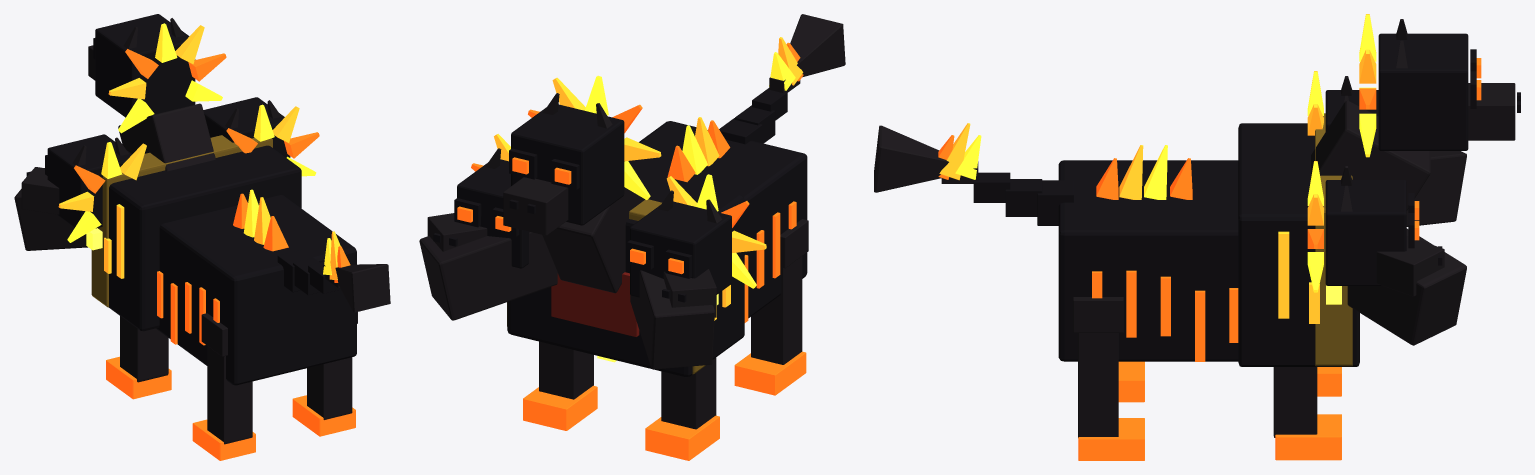
The model's file is cerberus.glb.
The picture shows the model from 3 angles, left to right: view 1: azimuth 30°, elevation 25°; view 2: azimuth 150°, elevation 25°; view 3: azimuth 270°, elevation 25°; orthographic projection. The views are drawn at different scales.
Visible parts, largest first — view 1: body, head, ear.R, leg.BR, tail, ear.L, leg.FR, leg.BL; view 2: body, head, ear.R, leg.BR, tail, ear.L, leg.FR, leg.FL; view 3: body, head, ear.L, tail, leg.BL, leg.FL, ear.R, leg.BR, leg.FR.
Part boxes in pixels (x1=…): body: x1=14, y1=103, x2=356, y2=385; head: x1=88, y1=14, x2=226, y2=133; ear.R: x1=21, y1=134, x2=146, y2=242; leg.BR: x1=192, y1=313, x2=255, y2=460; tail: x1=277, y1=231, x2=390, y2=312; ear.L: x1=203, y1=97, x2=319, y2=176; leg.FR: x1=106, y1=316, x2=171, y2=399; leg.BL: x1=292, y1=312, x2=357, y2=436; body: x1=419, y1=117, x2=807, y2=377; head: x1=503, y1=75, x2=661, y2=235; ear.R: x1=627, y1=174, x2=766, y2=317; leg.BR: x1=734, y1=219, x2=808, y2=395; tail: x1=719, y1=14, x2=845, y2=144; ear.L: x1=427, y1=134, x2=529, y2=268; leg.FR: x1=645, y1=357, x2=719, y2=460; leg.FL: x1=523, y1=341, x2=597, y2=430; body: x1=1058, y1=101, x2=1466, y2=366; head: x1=1359, y1=14, x2=1520, y2=157; ear.L: x1=1307, y1=161, x2=1444, y2=296; tail: x1=874, y1=123, x2=1073, y2=225; leg.BL: x1=1073, y1=297, x2=1144, y2=460; leg.FL: x1=1273, y1=367, x2=1341, y2=460; ear.R: x1=1307, y1=71, x2=1378, y2=135; leg.BR: x1=1118, y1=361, x2=1144, y2=402; leg.FR: x1=1317, y1=367, x2=1341, y2=396.
Bounding box in the file's own units: 0.8169 × 1 × 1.45.
